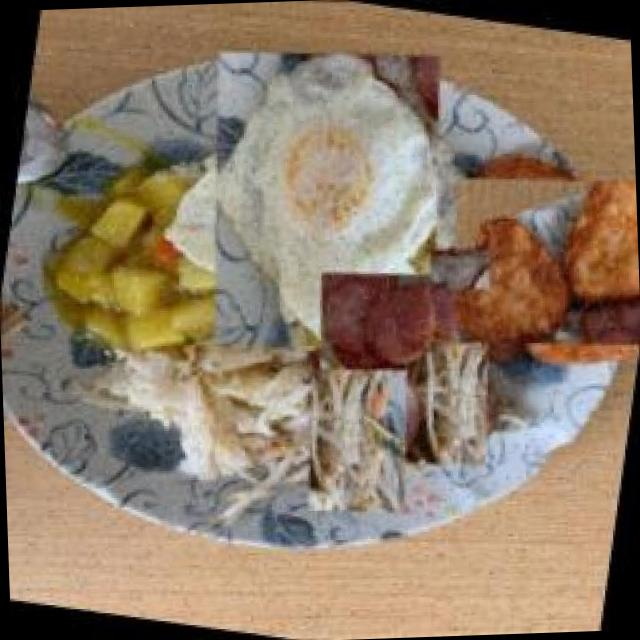chinese_cabbage: (74, 310, 334, 514)
chinese_sausage: (282, 251, 524, 488)
curry: (27, 140, 240, 378)
fried_eggs: (155, 29, 499, 372)
mung_bean_sprouts: (279, 361, 437, 518)
rice: (422, 239, 494, 299)
triangle_hash_brown: (431, 139, 640, 383)
